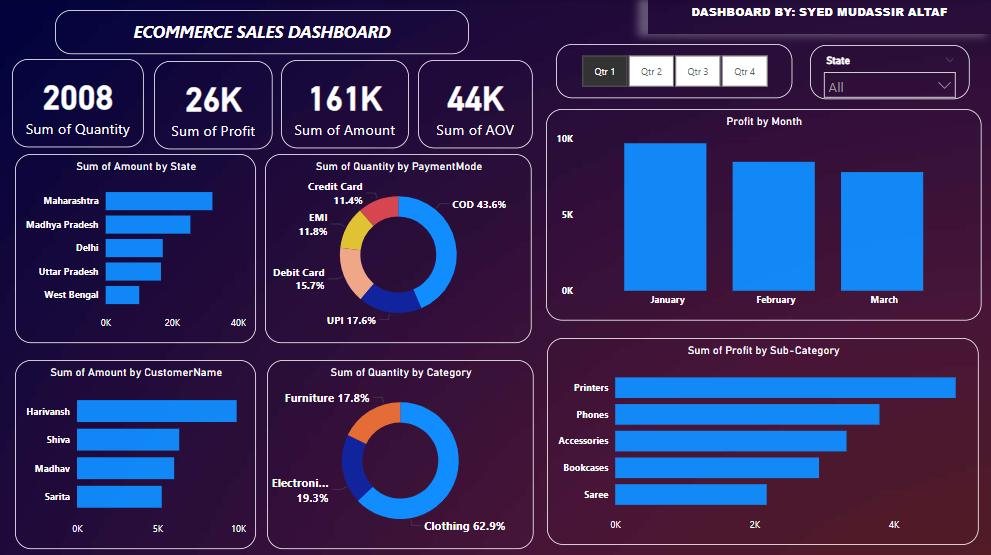

This screenshot's page, from the dashboard's own definition file:
{"tool":"powerbi","page":{"name":"Page 1","canvas":[1280,720],"ordinal":0},"visuals":[{"type":"textbox","box":[72.2,13.4,534.2,57.1],"z":0},{"type":"columnChart","title":"Profit by Month","fields":{"Y":["Sum(Details.Profit)"],"Category":["Orders.Date.Variation.Date Hierarchy.Month"]},"box":[706.1,140.4,561.5,272.5],"z":1000},{"type":"barChart","fields":{"Category":["Details.Sub-Category"],"Y":["Sum(Details.Profit)"]},"box":[707.4,436.3,557.4,267],"z":2000},{"type":"donutChart","fields":{"Category":["Details.Category"],"Y":["Sum(Details.Quantity)"]},"box":[346,464.1,344.1,243.6],"z":3000},{"type":"donutChart","fields":{"Category":["Details.PaymentMode","Details.Category"],"Y":["Sum(Details.Quantity)"]},"box":[343.3,198.5,344.1,243.6],"z":4000},{"type":"card","fields":{"Values":["Sum(Details.Amount)"]},"box":[364.5,77.3,164.6,114.2],"z":5000},{"type":"card","fields":{"Values":["Sum(Details.Profit)"]},"box":[199.9,79,152.9,114.2],"z":6000},{"type":"card","fields":{"Values":["Sum(Details.Quantity)"]},"box":[16.8,75.6,169.7,114.2],"z":7000},{"type":"card","fields":{"Values":["Sum(Details.AOV)"]},"box":[540.9,77.3,147.8,114.2],"z":8000},{"type":"barChart","fields":{"Category":["Orders.State"],"Y":["Sum(Details.Amount)"]},"box":[21.2,198.5,311.1,243.6],"z":9000},{"type":"barChart","fields":{"Category":["Orders.CustomerName"],"Y":["Sum(Details.Amount)"]},"box":[21.2,464.1,311.1,243.6],"z":10000},{"type":"slicer","fields":{"Values":["Orders.Date.Variation.Date Hierarchy.Quarter"]},"box":[718.7,56.8,304.5,69.7],"z":11000},{"type":"slicer","fields":{"Values":["Orders.State"]},"box":[1046.5,58.1,206.5,69.7],"z":12000},{"type":"textbox","box":[837.4,0,442.6,43.9],"z":12001}]}

Visuals, with their boxes in screenshot pixels (x1, y1, x2, y2), scaled from the page's 1280x720 canvas onto the 991x555 screenshot:
textbox: l=56, t=10, r=469, b=54
"Profit by Month" columnChart: l=547, t=108, r=981, b=318
barChart - Details.Sub-Category x Sum(Details.Profit): l=548, t=336, r=979, b=542
donutChart - Details.Category x Sum(Details.Quantity): l=268, t=358, r=534, b=546
donutChart - Details.PaymentMode x Details.Category: l=266, t=153, r=532, b=341
card - Sum(Details.Amount): l=282, t=60, r=410, b=148
card - Sum(Details.Profit): l=155, t=61, r=273, b=149
card - Sum(Details.Quantity): l=13, t=58, r=144, b=146
card - Sum(Details.AOV): l=419, t=60, r=533, b=148
barChart - Orders.State x Sum(Details.Amount): l=16, t=153, r=257, b=341
barChart - Orders.CustomerName x Sum(Details.Amount): l=16, t=358, r=257, b=546
slicer - Orders.Date.Variation.Date Hierarchy.Quarter: l=556, t=44, r=792, b=98
slicer - Orders.State: l=810, t=45, r=970, b=99
textbox: l=648, t=0, r=990, b=34
